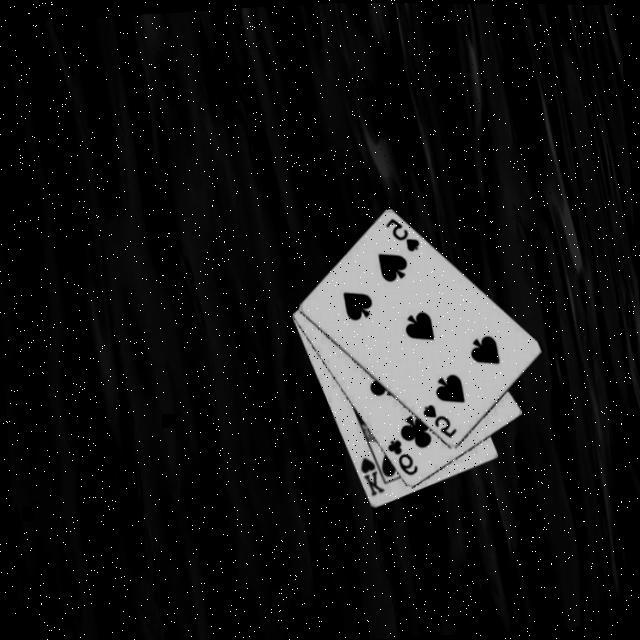5S: (384, 213, 425, 256), (420, 400, 461, 442)
6C: (385, 435, 422, 479)
KH: (359, 453, 390, 500)
